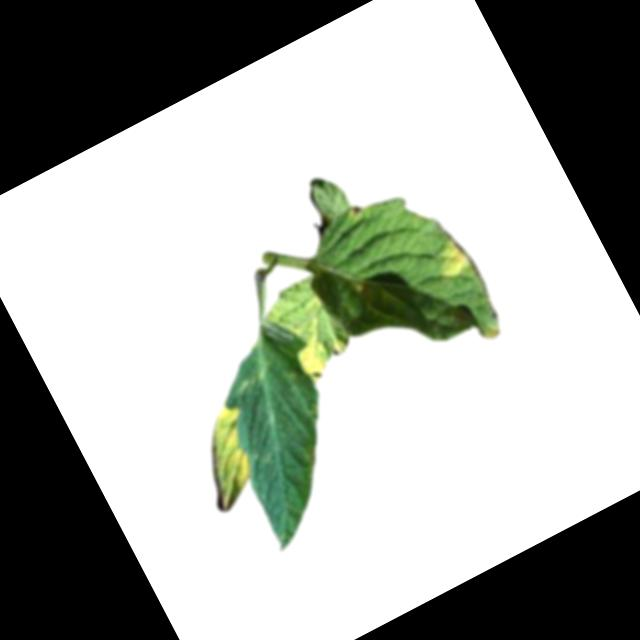Leaf_Mold: (177, 401, 273, 513), (293, 327, 356, 385), (429, 233, 478, 283)
